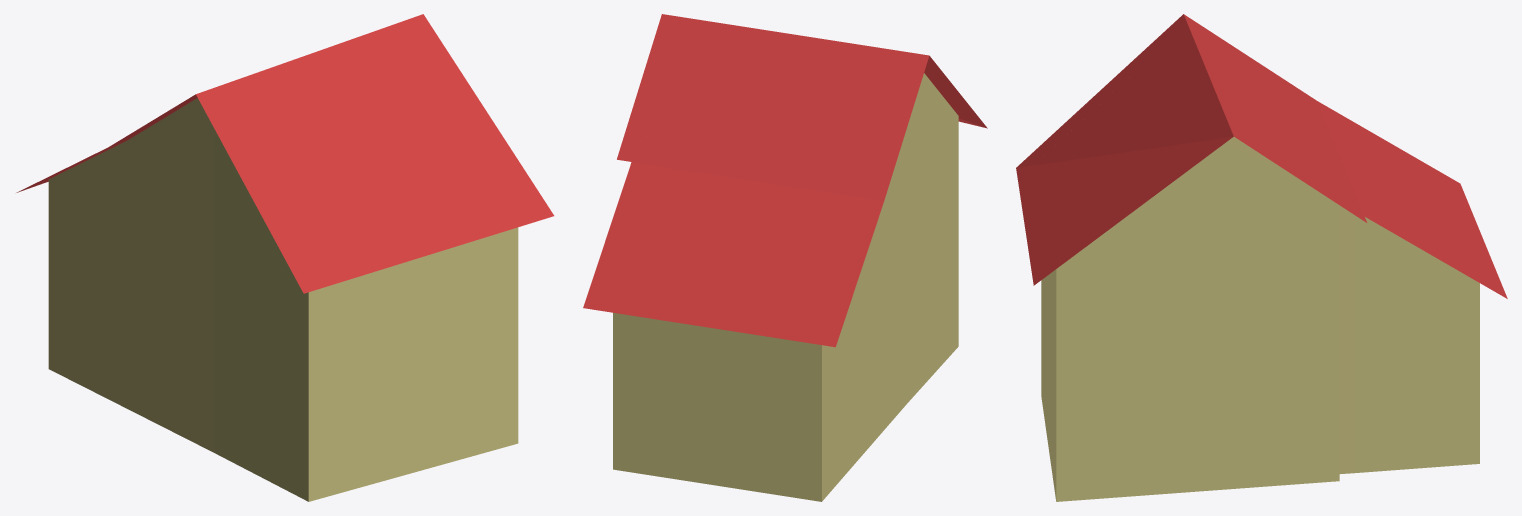
The picture shows the model from 3 angles, left to right: view 1: azimuth 30°, elevation 25°; view 2: azimuth 150°, elevation 25°; view 3: azimuth 270°, elevation 25°; orthographic projection. The views are drawn at different scales.
Size of the model in its own units: 15.46 by 20.4 by 16.6.
